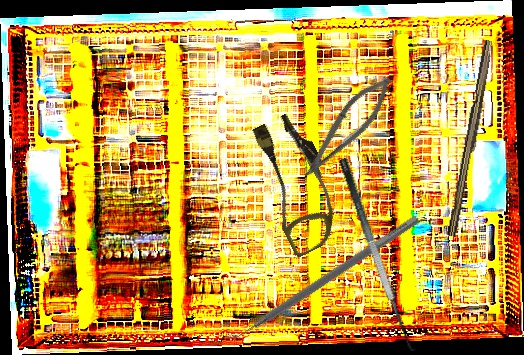Cannula: (237, 108, 356, 259)
Micro Scissor: (296, 67, 400, 189)
Scalpel Handle: (446, 39, 497, 238)
Spatula Surgical: (221, 207, 420, 350), (336, 152, 428, 355)
